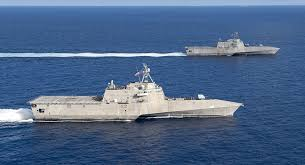tau_muctieu: (27, 74, 238, 125), (180, 32, 281, 60)
